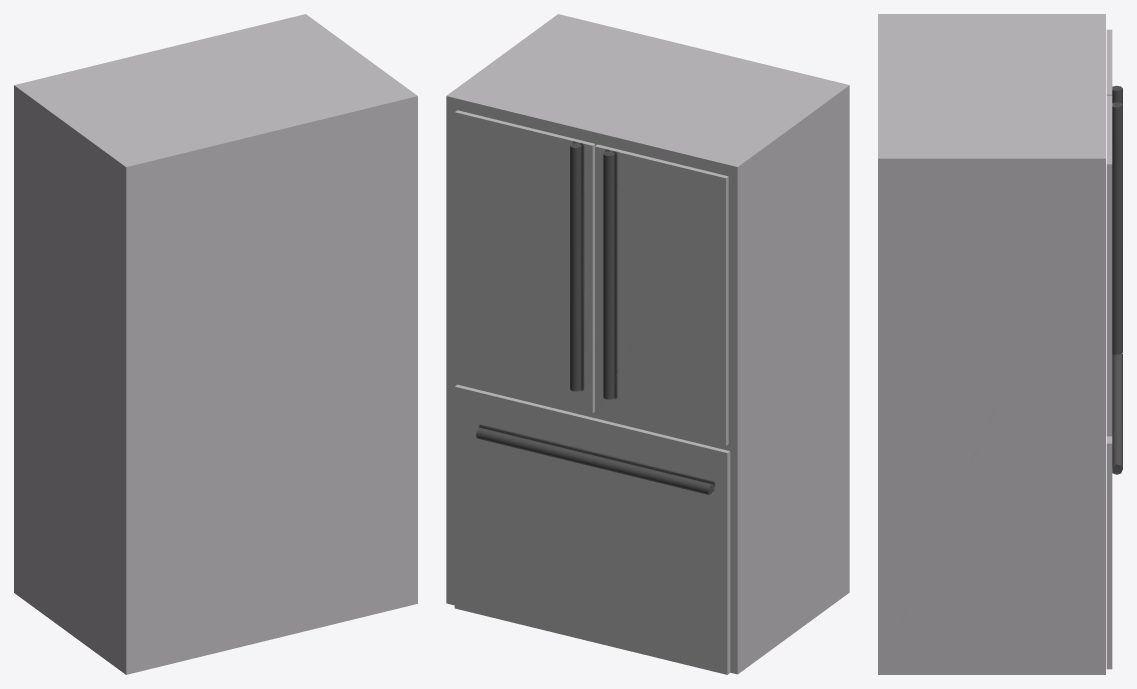
Rendered from FridgeB.fbx.
The picture shows the model from 3 angles, left to right: view 1: azimuth 30°, elevation 25°; view 2: azimuth 150°, elevation 25°; view 3: azimuth 270°, elevation 25°; orthographic projection.
Parts seen in each view (by area): view 1: node_id6; view 2: node_id6; view 3: node_id6.
Boxes of the visible parts, x1=… form: node_id6: x1=14, y1=14, x2=417, y2=674; node_id6: x1=446, y1=14, x2=849, y2=674; node_id6: x1=878, y1=14, x2=1122, y2=674.
Size of the model in its own units: 0.3079 by 0.512 by 0.22.
2 materials, 2 textured.
